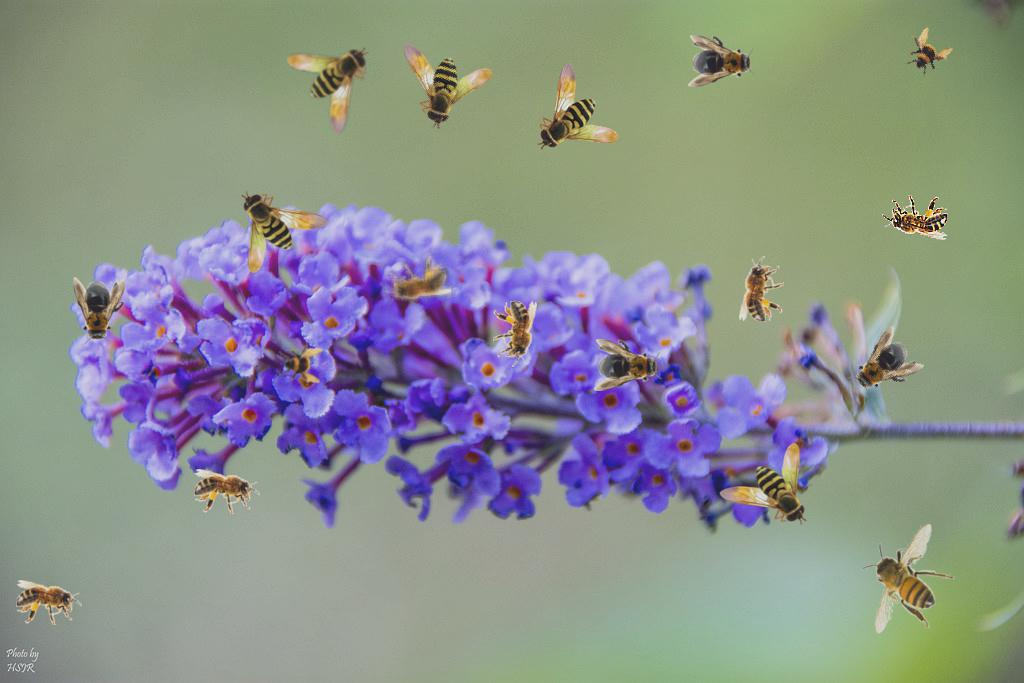Bee: (380, 12, 500, 132), (861, 523, 955, 634), (840, 325, 926, 409), (241, 191, 329, 273), (719, 443, 807, 525), (537, 62, 619, 150), (287, 47, 369, 135), (377, 250, 455, 315), (895, 22, 957, 84), (594, 339, 662, 391), (73, 277, 125, 345), (688, 35, 756, 87), (491, 300, 539, 367), (194, 469, 260, 514), (882, 195, 948, 240), (16, 580, 82, 625), (739, 256, 784, 322), (279, 341, 323, 385)
